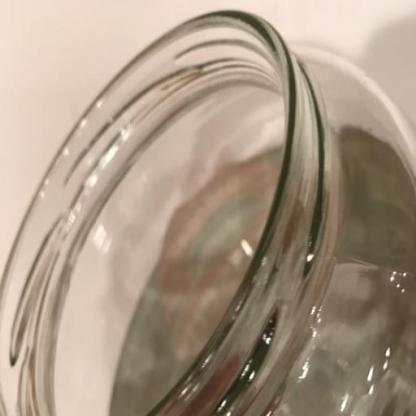trash: (0, 7, 415, 415)
